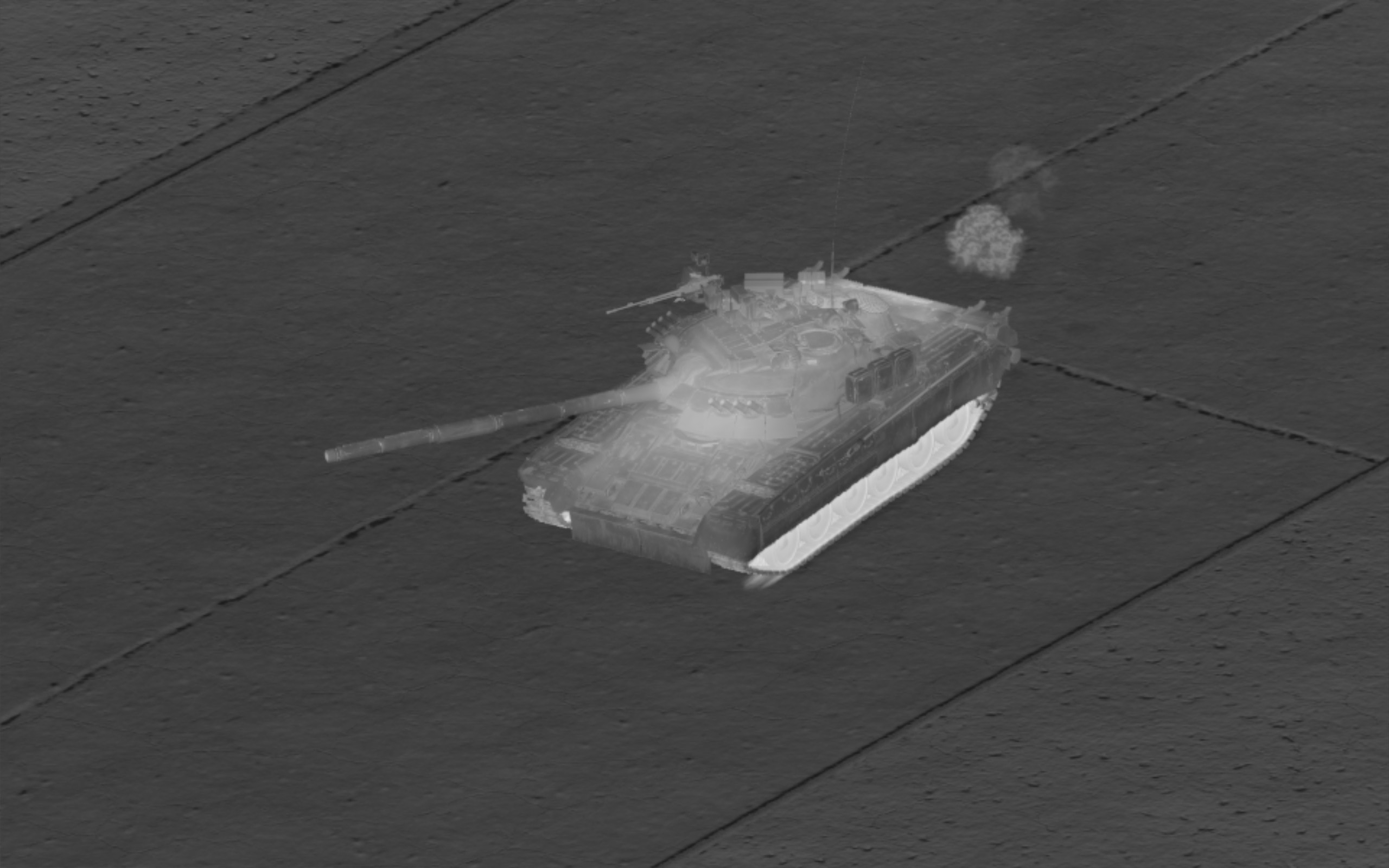t-80u: (322, 263, 1018, 595)
